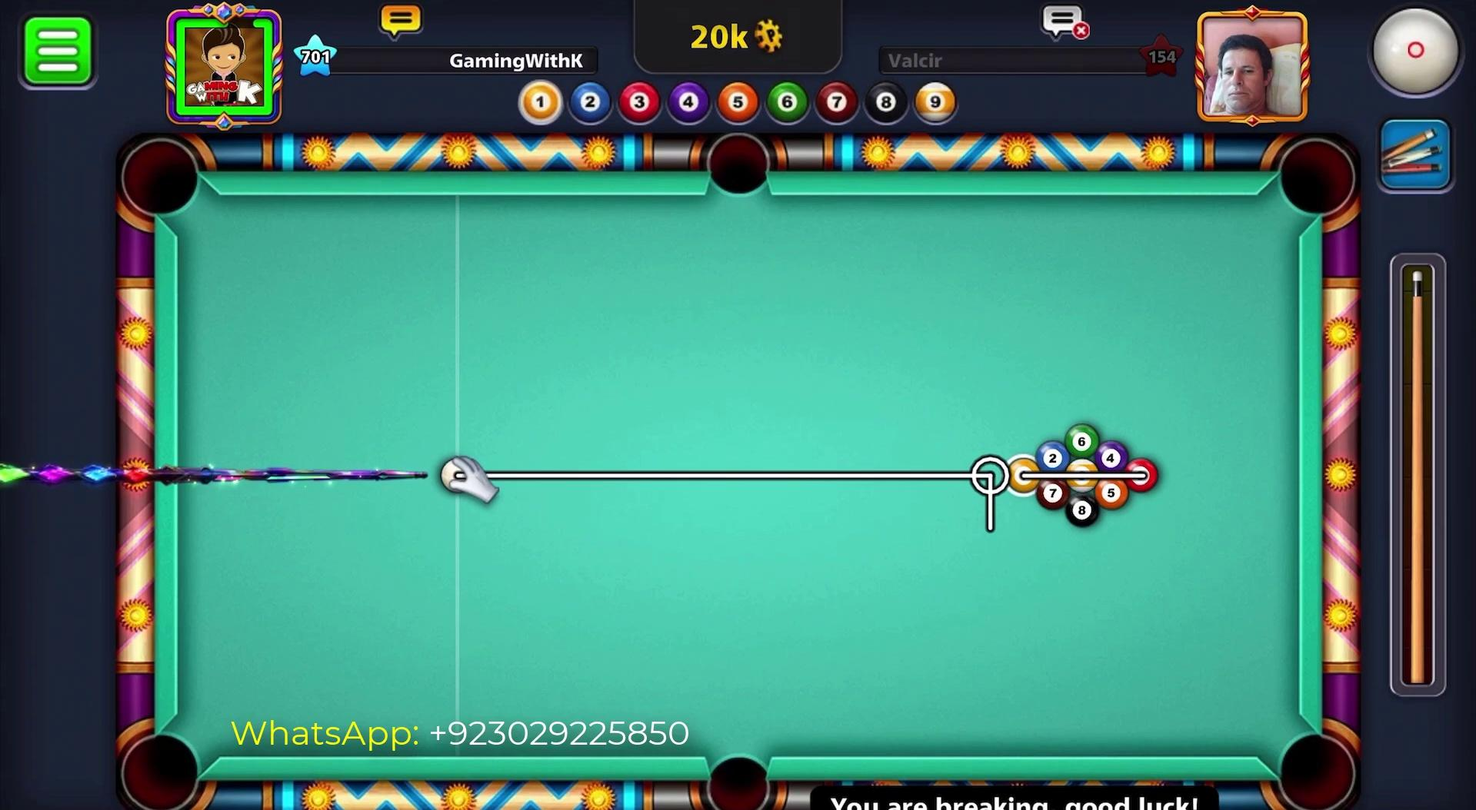Ball: (1061, 491, 1101, 529), (1006, 454, 1040, 496), (1124, 456, 1158, 493), (1035, 440, 1069, 473), (1095, 440, 1128, 473)
Force: (1388, 254, 1451, 705)
Guideline: (456, 460, 1157, 537), (971, 453, 1009, 499)
Hole: (108, 129, 213, 230), (1270, 129, 1364, 231), (110, 719, 209, 809), (1265, 718, 1364, 808), (688, 741, 783, 809), (701, 124, 776, 204)
Play_Area: (177, 194, 1299, 759)
Spin: (1346, 0, 1475, 112)
White: (430, 451, 484, 496)
